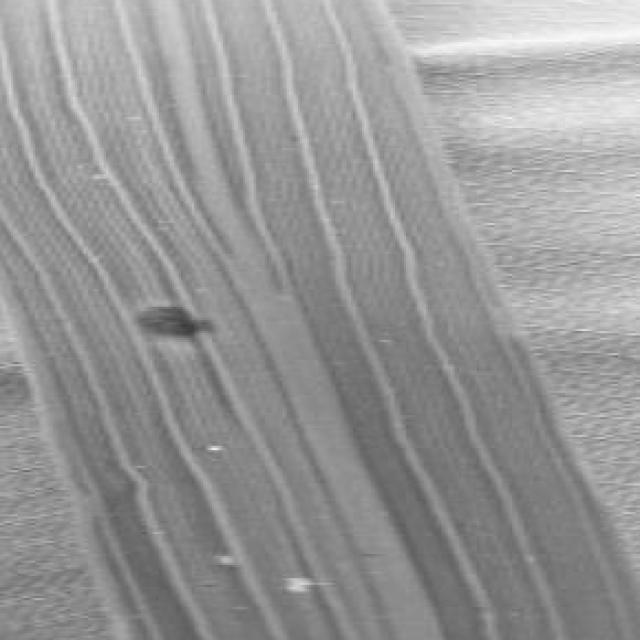Brown_Spot: (119, 282, 234, 360)
